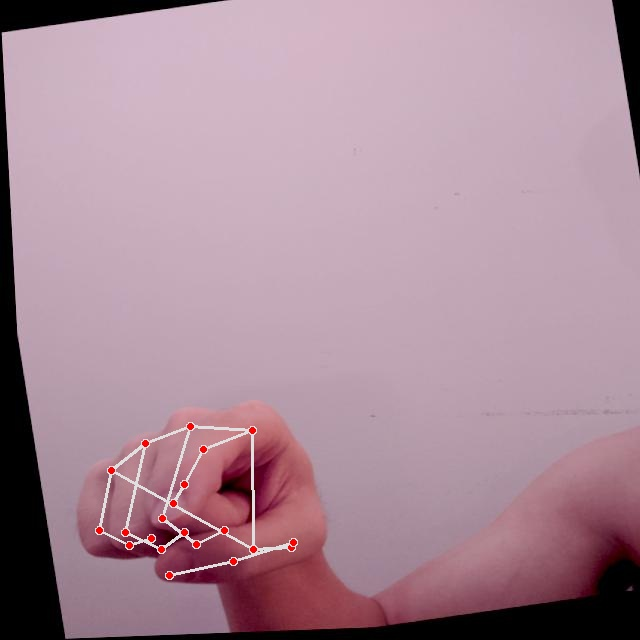Z: (43, 383, 342, 613)
